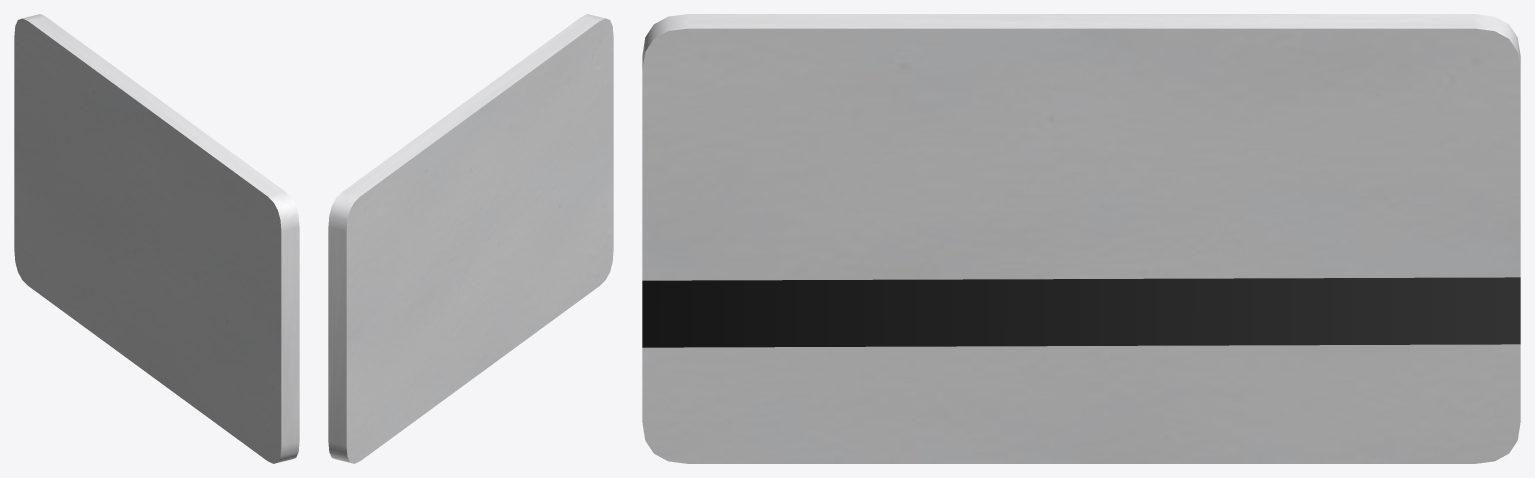
File: LivingQuarters_KeyCard_ChefsRoom_Unwrapped.fbx
The picture shows the model from 3 angles, left to right: view 1: azimuth 30°, elevation 25°; view 2: azimuth 150°, elevation 25°; view 3: azimuth 270°, elevation 25°; orthographic projection. The views are drawn at different scales.
Visible parts, largest first — view 1: Box001; view 2: Box001; view 3: Box001.
Part boxes in pixels (<box>): Box001: <box>14,14,299,463</box>; Box001: <box>328,14,613,463</box>; Box001: <box>642,14,1520,463</box>.
Bounding box in the file's own units: 0.4109 × 5.73 × 10.47.
